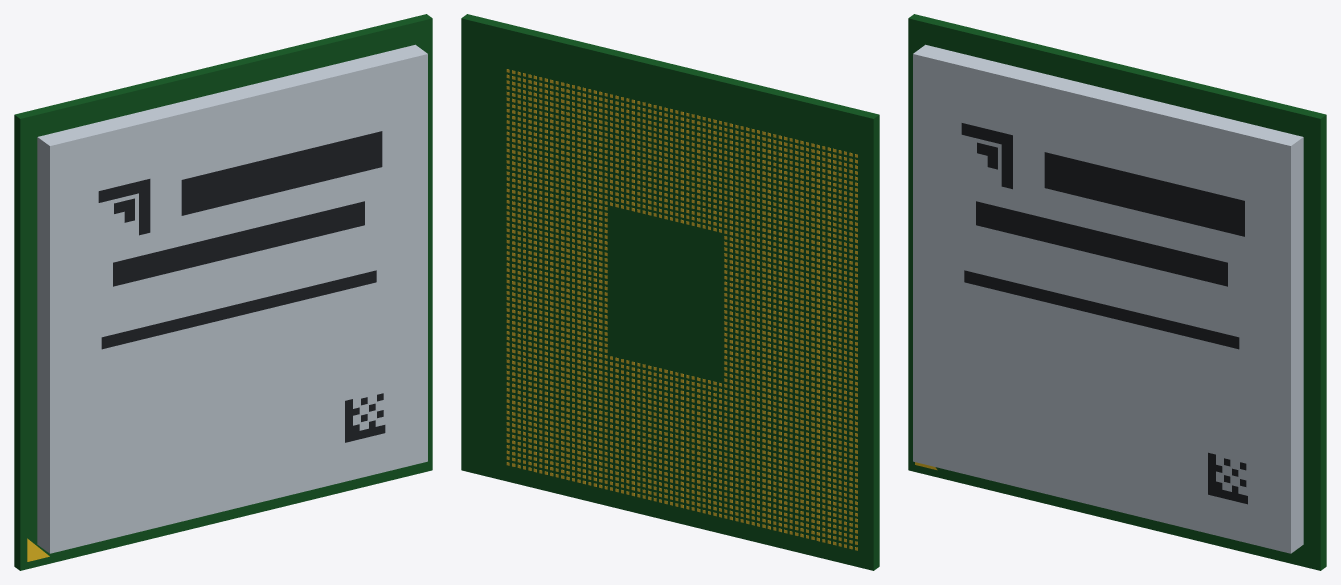
Rendered from CPU_AMD_EPYC_9654_SERVER_SP5.obj.
3 renders of one model, left to right at view 1: azimuth 30°, elevation 25°; view 2: azimuth 150°, elevation 25°; view 3: azimuth 330°, elevation 25°, orthographic.
Bounding box in the file's own units: 72 × 75.4 × 5.67.
